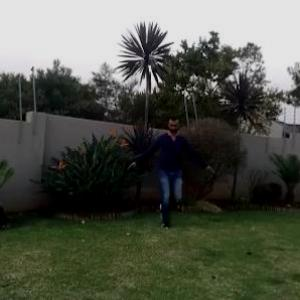land: (117, 108, 213, 230)
